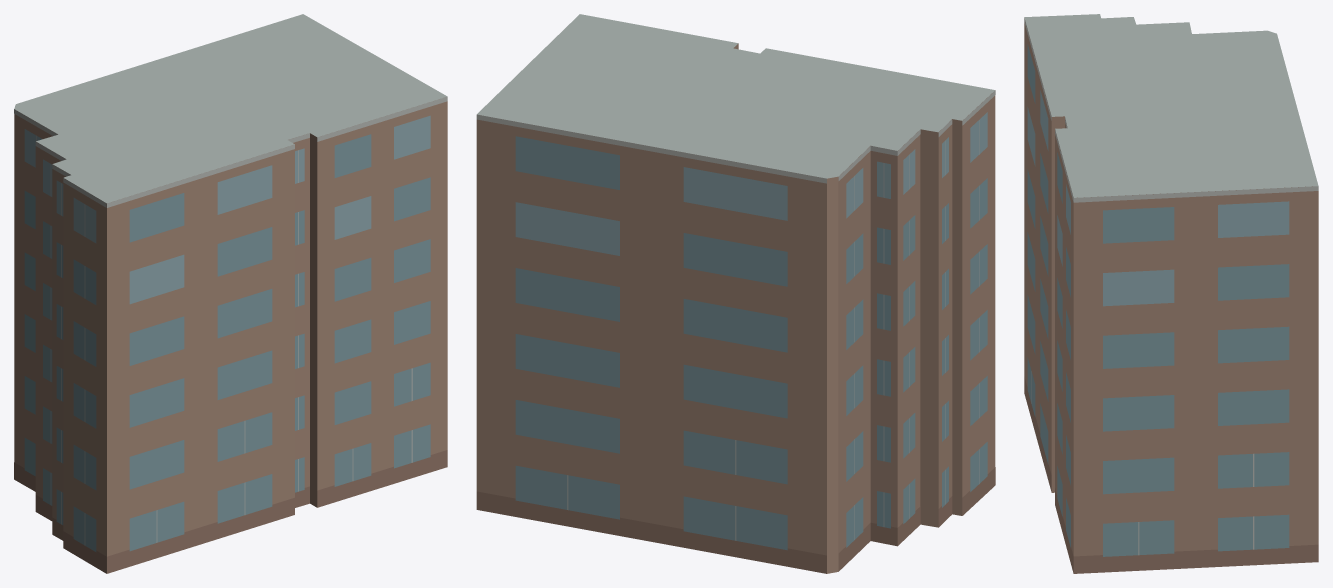
File: survey-upis-32698953.glb
3 views of the same model, side by side, from view 1: azimuth 30°, elevation 25°; view 2: azimuth 150°, elevation 25°; view 3: azimuth 270°, elevation 25° (orthographic). The views are drawn at different scales.
Visible parts, largest first — view 1: survey-upis-32698953.tmp; view 2: survey-upis-32698953.tmp; view 3: survey-upis-32698953.tmp.
Boxes of the visible parts, left/top/right/bottom form: survey-upis-32698953.tmp: left=14, top=14, right=447, bottom=573; survey-upis-32698953.tmp: left=476, top=14, right=995, bottom=573; survey-upis-32698953.tmp: left=1024, top=14, right=1318, bottom=573.
Size of the model in its own units: 20.15 by 19.2 by 13.63.
